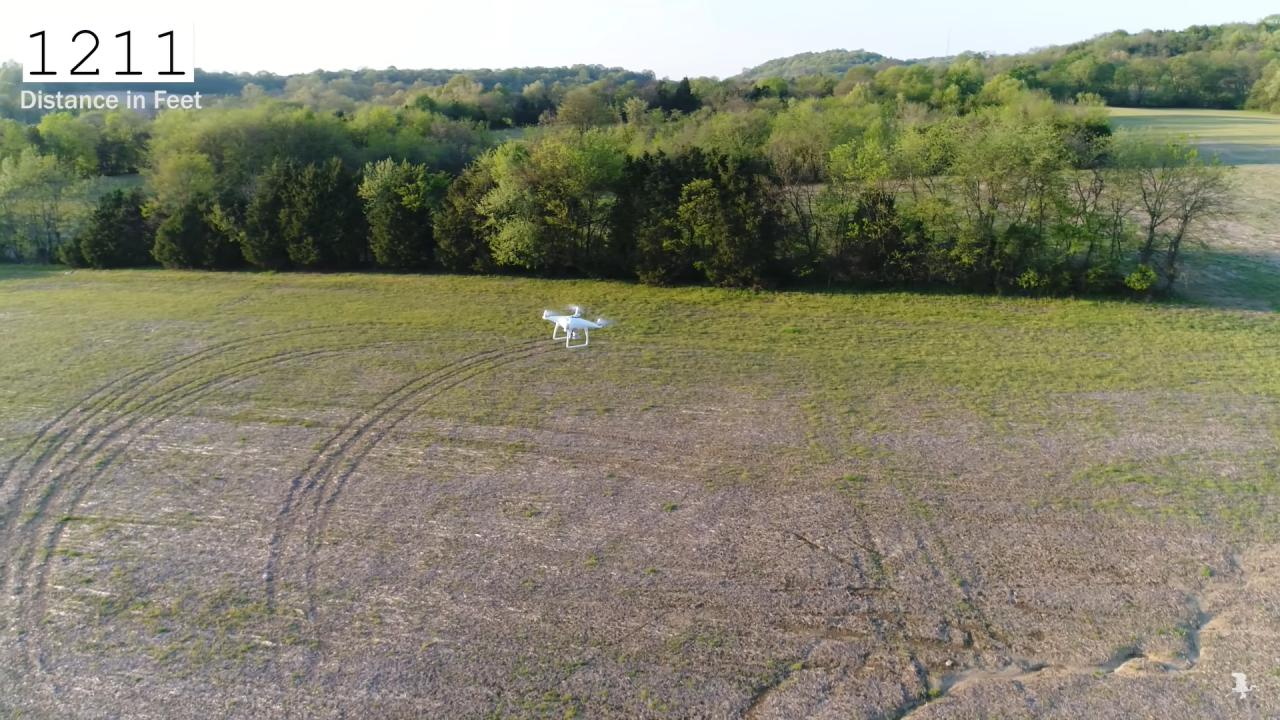Drone: (532, 293, 625, 359)
